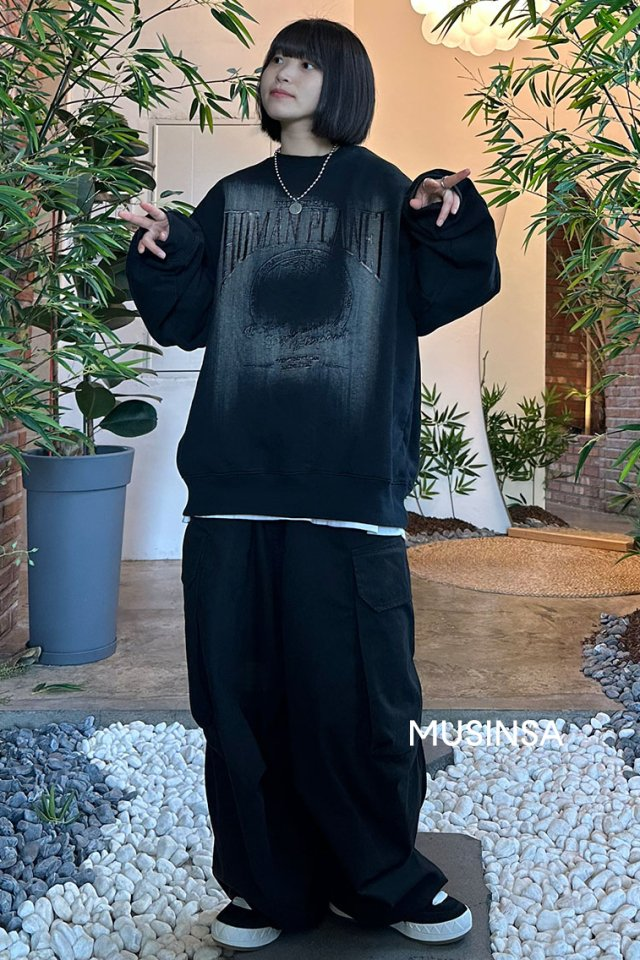Accessories: (260, 137, 348, 225)
Pants: (179, 512, 450, 914)
Shoes: (204, 886, 478, 953)
Top: (112, 145, 502, 530)
